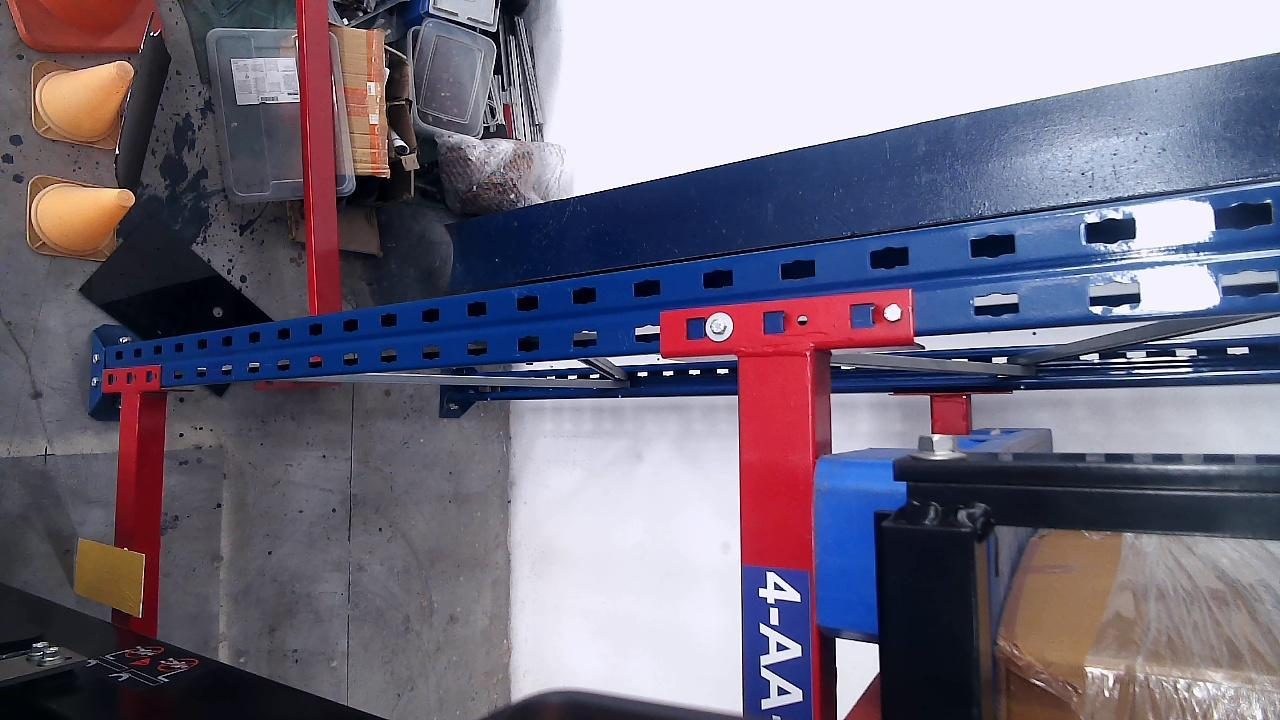h_rack: (738, 350, 817, 720), (114, 395, 136, 635)
orange_strip: (74, 540, 144, 617)
